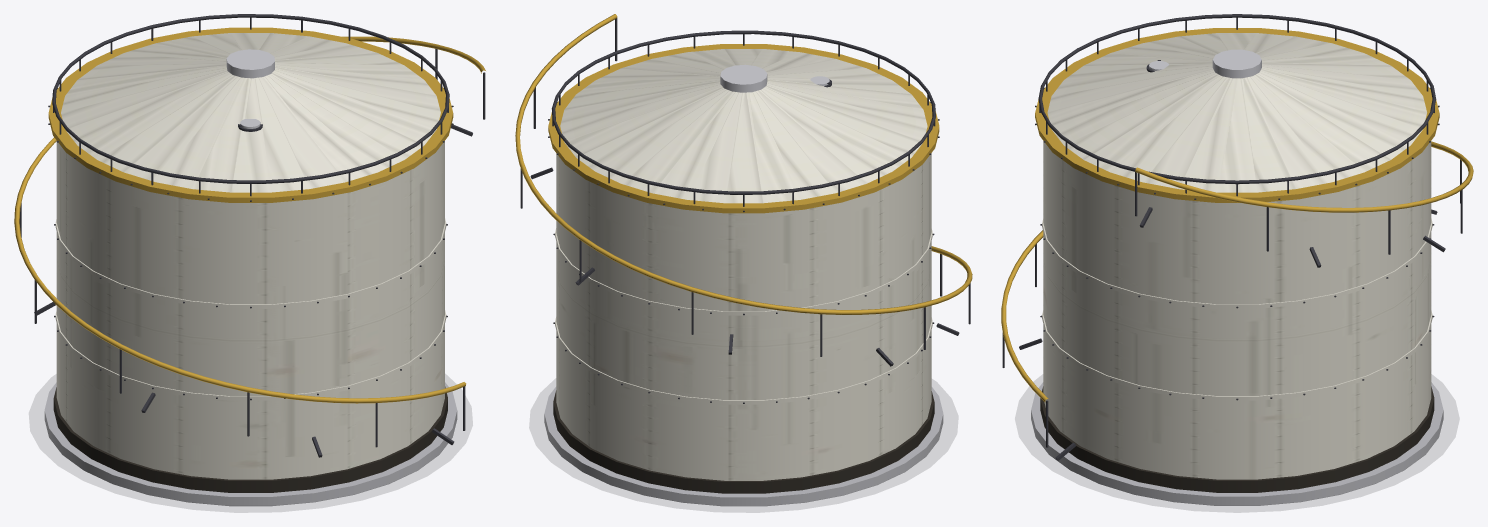
The model's file is tanque.glb.
3 views of the same model, side by side, from view 1: azimuth 30°, elevation 25°; view 2: azimuth 150°, elevation 25°; view 3: azimuth 270°, elevation 25° (orthographic). The views are drawn at different scales.
Size of the model in its own units: 23.14 by 19.43 by 23.13.
10 materials, 3 textured.
